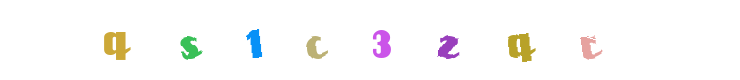1: (276, 0, 356, 80)
3: (331, 0, 411, 80)
C: (279, 0, 359, 80)
Q: (149, 0, 229, 80), (407, 0, 487, 80)
R: (470, 0, 550, 80)
S: (215, 0, 295, 80)
Z: (347, 0, 427, 80)
